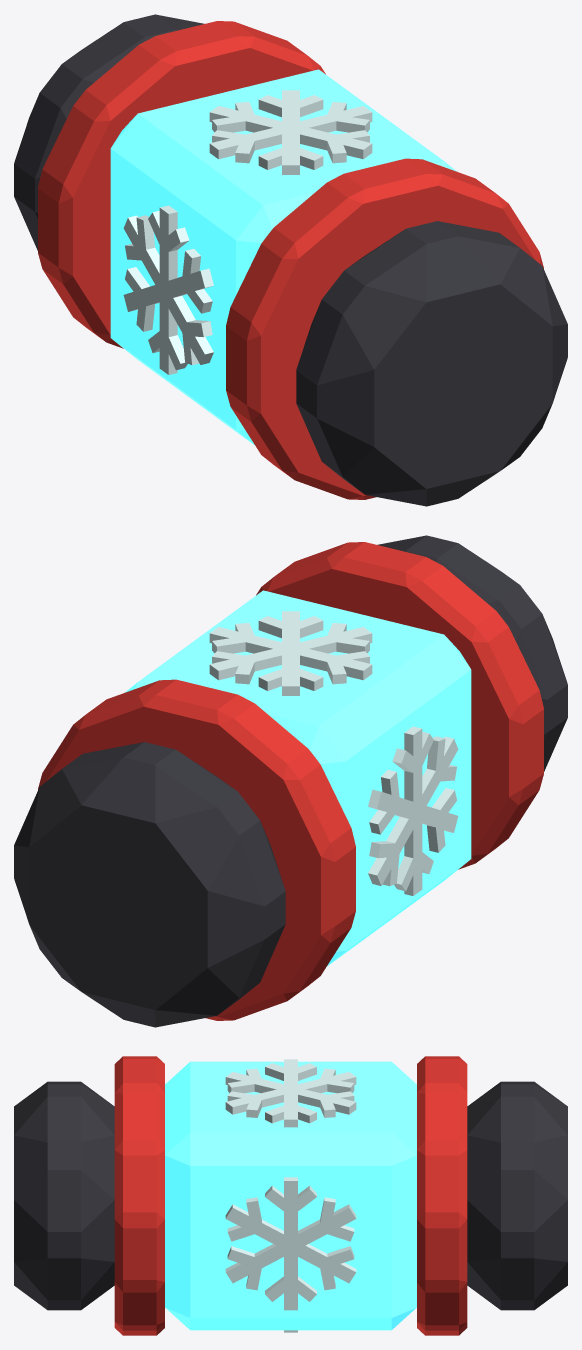
Rendered from ElementCartridge_Ice.fbx.
3 views of the same model, one above another, from view 1: azimuth 30°, elevation 25°; view 2: azimuth 150°, elevation 25°; view 3: azimuth 270°, elevation 25° (orthographic). The views are drawn at different scales.
Parts seen in each view (by area): view 1: Cartridge_Ice; view 2: Cartridge_Ice; view 3: Cartridge_Ice.
Boxes of the visible parts, bbox=[...] form: Cartridge_Ice: bbox=[14, 14, 567, 506]; Cartridge_Ice: bbox=[14, 535, 567, 1027]; Cartridge_Ice: bbox=[14, 1056, 567, 1335].
Bounding box in the file's own units: 0.0328 × 0.0328 × 0.066.
